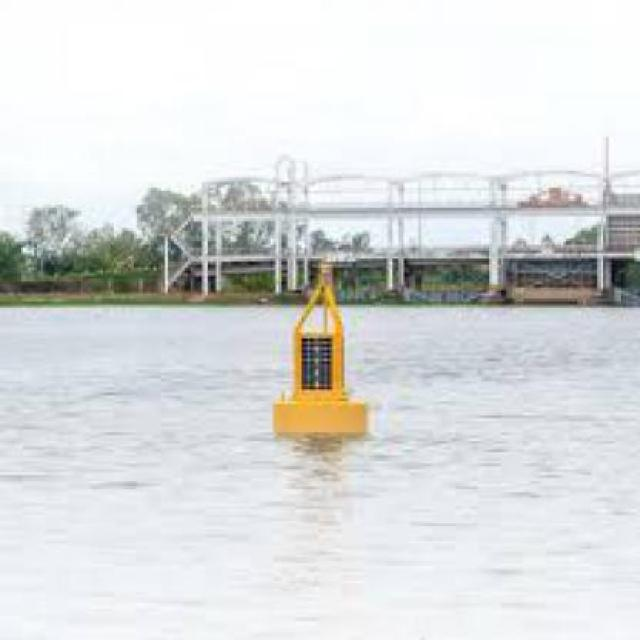buoy: (268, 251, 377, 448)
